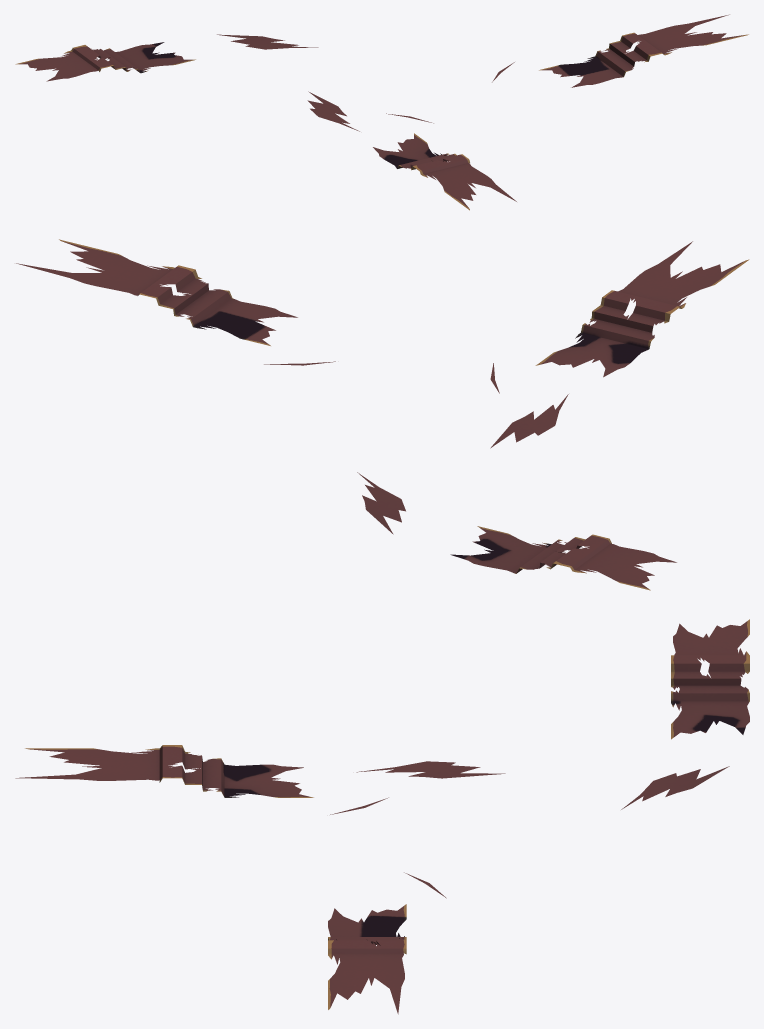
The model's file is Capet_01.FBX.
3 renders of one model, top to bottom at view 1: azimuth 30°, elevation 25°; view 2: azimuth 150°, elevation 25°; view 3: azimuth 270°, elevation 25°, orthographic. The views are drawn at different scales.
Parts seen in each view (by area): view 1: Capet_01; view 2: Capet_01; view 3: Capet_01.
Part boxes in pixels (x1=…): Capet_01: x1=15, y1=14, x2=748, y2=210; Capet_01: x1=16, y1=239, x2=749, y2=590; Capet_01: x1=15, y1=619, x2=749, y2=1014.
Size of the model in its own units: 28.65 by 0.6735 by 22.53.
